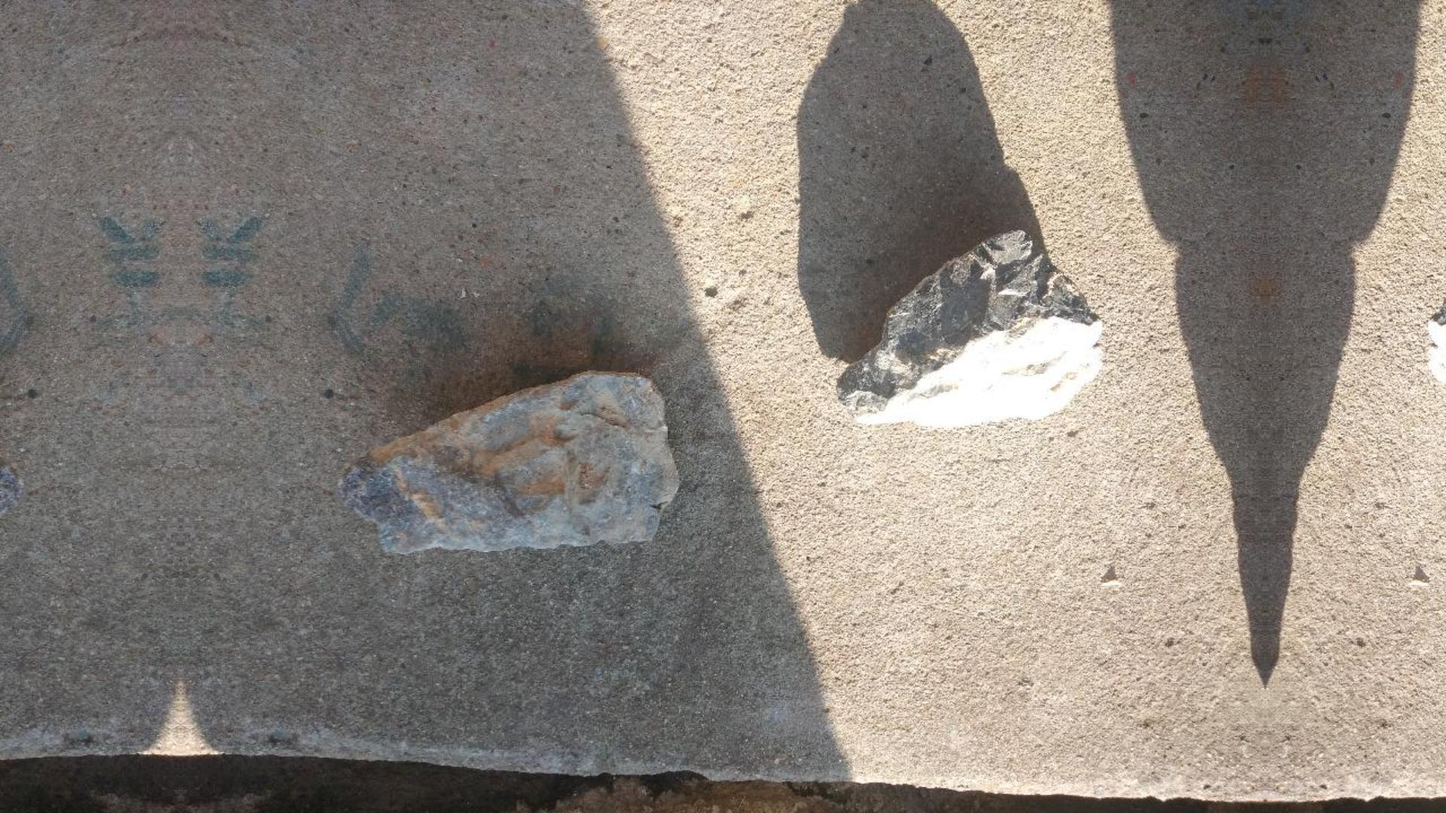rock: (338, 371, 679, 553), (838, 230, 1100, 427), (1427, 304, 1445, 385), (0, 467, 25, 515)
